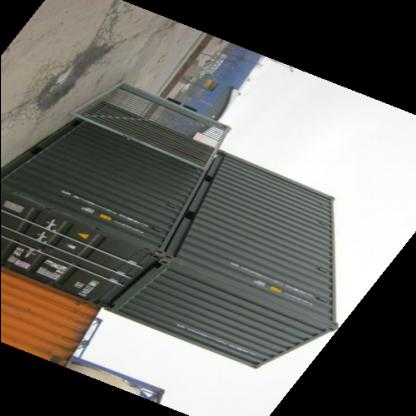Damage: (16, 190, 84, 222), (60, 295, 93, 343), (171, 251, 215, 273)
